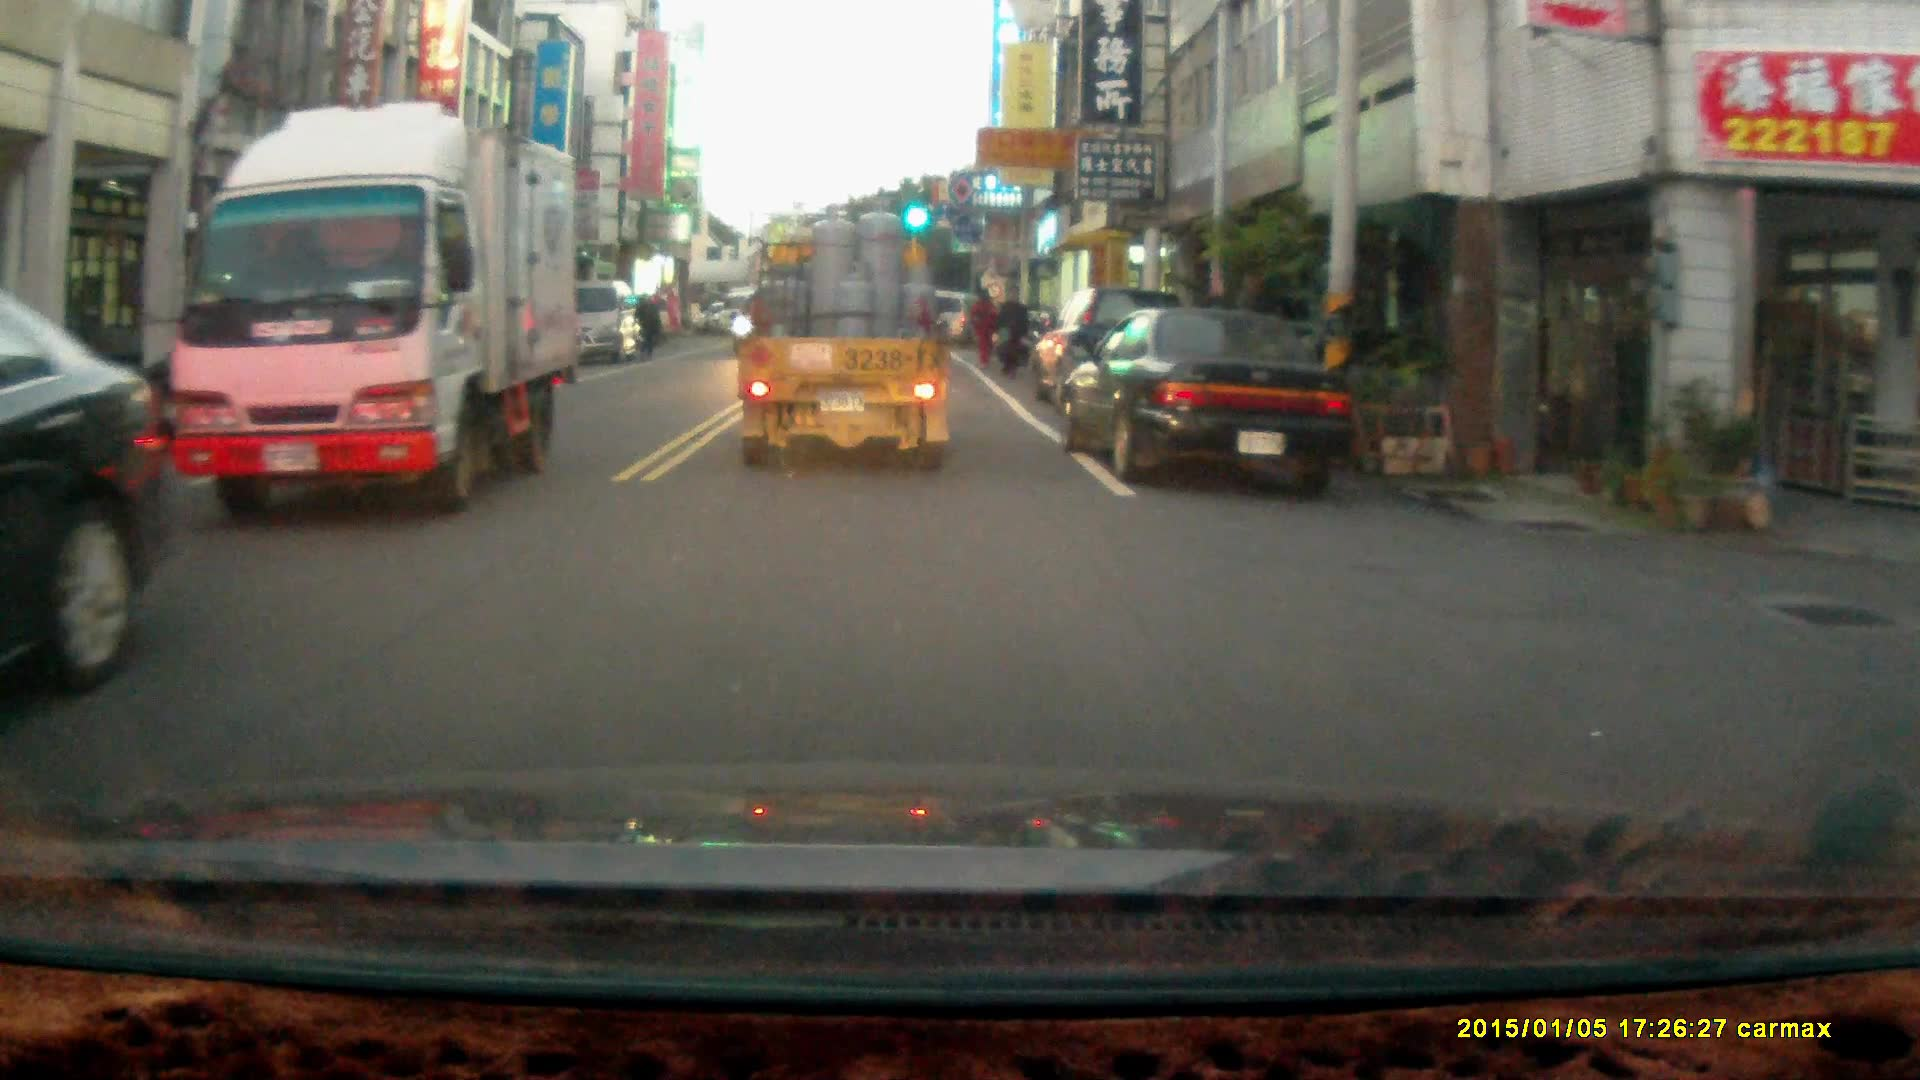pedestrian: (992, 284, 1027, 379), (965, 285, 999, 366), (630, 292, 660, 362)
vehicle: (170, 103, 582, 523), (1, 298, 171, 696), (732, 191, 960, 476), (1062, 307, 1356, 492), (581, 277, 645, 365)
